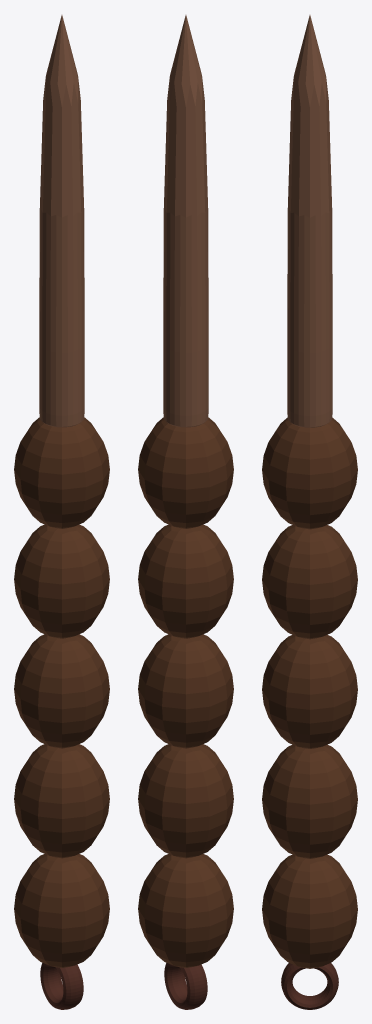
The model's file is Wand 201.glb.
3 views of the same model, side by side, from view 1: azimuth 30°, elevation 25°; view 2: azimuth 210°, elevation 25°; view 3: azimuth 270°, elevation 25° (orthographic).
Parts seen in each view (by area): view 1: GeneratedWand; view 2: GeneratedWand; view 3: GeneratedWand.
Boxes of the visible parts, bbox=[...] form: GeneratedWand: bbox=[14, 15, 109, 1009]; GeneratedWand: bbox=[138, 15, 233, 1009]; GeneratedWand: bbox=[262, 15, 357, 1009].
Size of the model in its own units: 0.0447 by 0.5132 by 0.0449.
